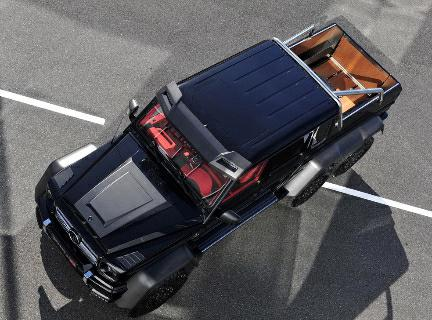巴博斯-G级: (32, 15, 406, 320)
